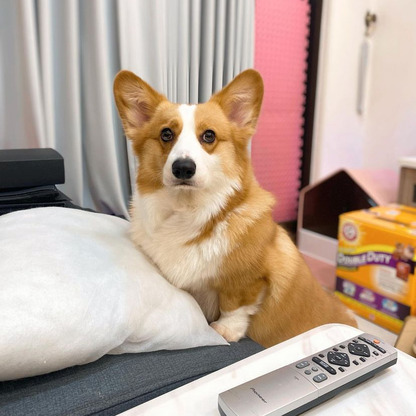Corgi: (101, 60, 364, 359)
